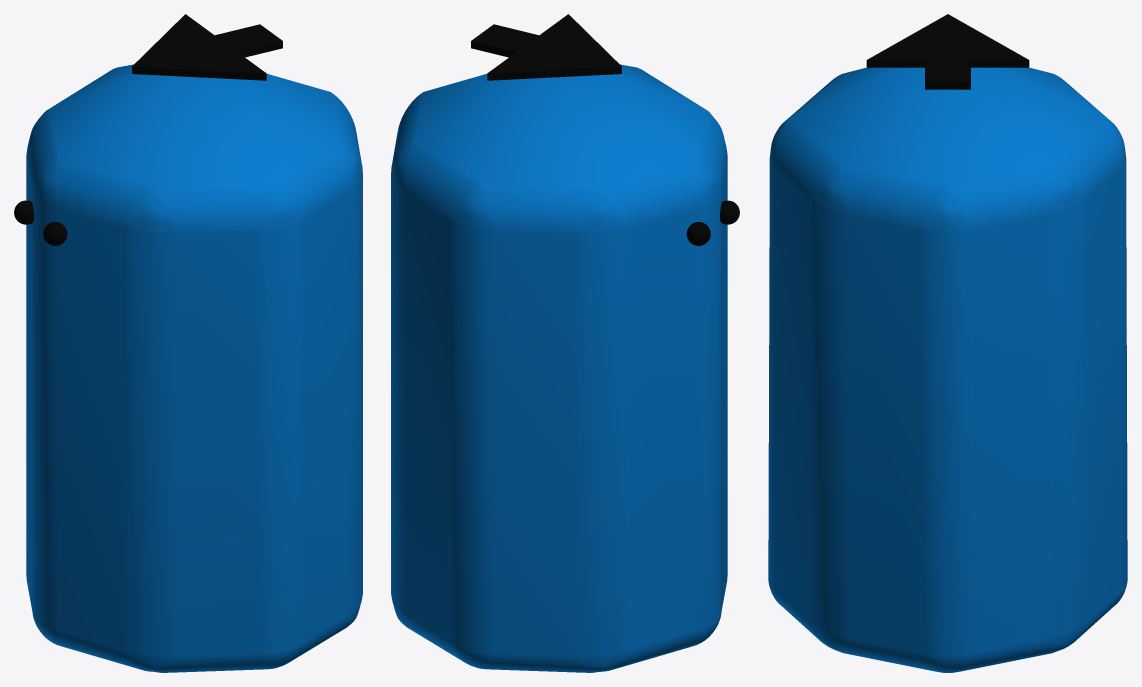
The picture shows the model from 3 angles, left to right: view 1: azimuth 30°, elevation 25°; view 2: azimuth 150°, elevation 25°; view 3: azimuth 270°, elevation 25°; orthographic projection.
Parts seen in each view (by area): view 1: Cube.020_Cube.008_Material.006, Cube.020_Cube.008_SVGMat; view 2: Cube.020_Cube.008_Material.006, Cube.020_Cube.008_SVGMat; view 3: Cube.020_Cube.008_Material.006, Cube.020_Cube.008_SVGMat.
Part boxes in pixels (x1,y1,x2,y2): Cube.020_Cube.008_Material.006: (26,64,362,672); Cube.020_Cube.008_SVGMat: (14,14,282,245); Cube.020_Cube.008_Material.006: (391,64,727,672); Cube.020_Cube.008_SVGMat: (471,14,739,245); Cube.020_Cube.008_Material.006: (768,67,1127,672); Cube.020_Cube.008_SVGMat: (866,14,1029,89).
Bounding box in the file's own units: 0.2642 × 0.4425 × 0.2565.
